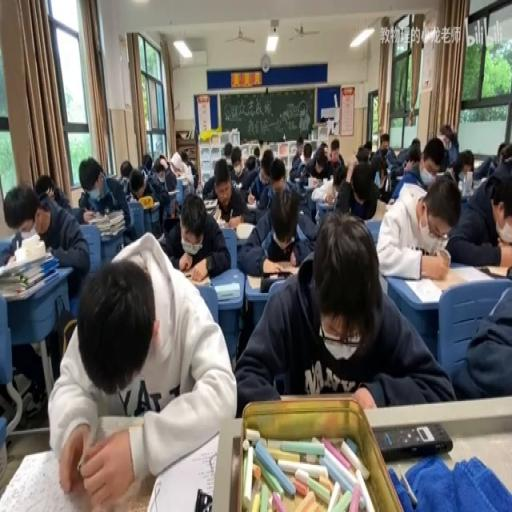calculator: (402, 278, 442, 304), (248, 263, 299, 283), (450, 263, 496, 283), (182, 270, 212, 286), (214, 282, 240, 300), (314, 199, 333, 222), (363, 218, 383, 239), (369, 196, 387, 219), (235, 222, 255, 240), (138, 196, 158, 209), (470, 176, 484, 190), (203, 196, 217, 209), (306, 176, 320, 188), (213, 206, 222, 222), (434, 171, 448, 179), (154, 232, 164, 243), (232, 179, 242, 189), (195, 182, 202, 196), (321, 176, 331, 185), (245, 201, 256, 209), (166, 189, 178, 196), (126, 193, 135, 202)
paper: (50, 228, 237, 506), (231, 209, 448, 414), (2, 179, 90, 307), (450, 276, 511, 401), (446, 156, 512, 268), (164, 186, 230, 279), (80, 156, 138, 246), (134, 159, 173, 229), (334, 161, 380, 220), (244, 149, 275, 209), (300, 142, 334, 182), (202, 148, 226, 199), (394, 138, 420, 175), (437, 125, 459, 168), (370, 135, 392, 171), (180, 149, 198, 192), (490, 154, 510, 188), (270, 156, 286, 194), (34, 175, 55, 202), (290, 173, 309, 202), (472, 155, 494, 179), (120, 158, 134, 182), (460, 155, 473, 178), (141, 150, 153, 174), (291, 145, 303, 168), (331, 174, 344, 194), (346, 156, 356, 182), (130, 179, 144, 196), (222, 142, 232, 165), (497, 142, 507, 158), (231, 154, 241, 170), (245, 155, 254, 171), (253, 145, 259, 164), (362, 141, 372, 151), (160, 156, 166, 170), (322, 142, 328, 154), (332, 148, 338, 158), (297, 137, 303, 145)
person: (374, 420, 451, 460), (193, 488, 212, 509)
